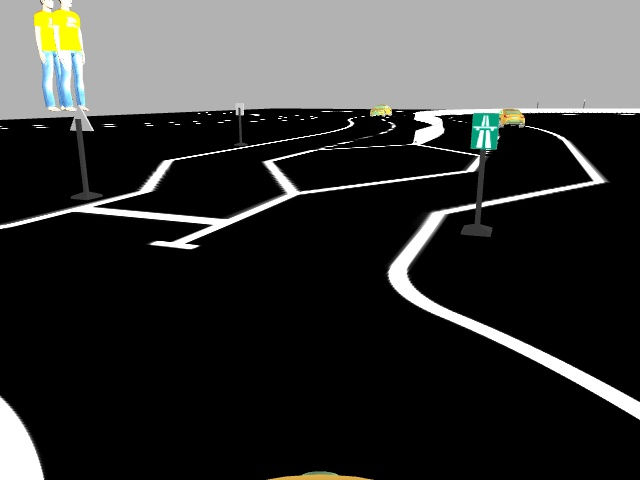HighwayEntrance: (470, 111, 500, 152)
